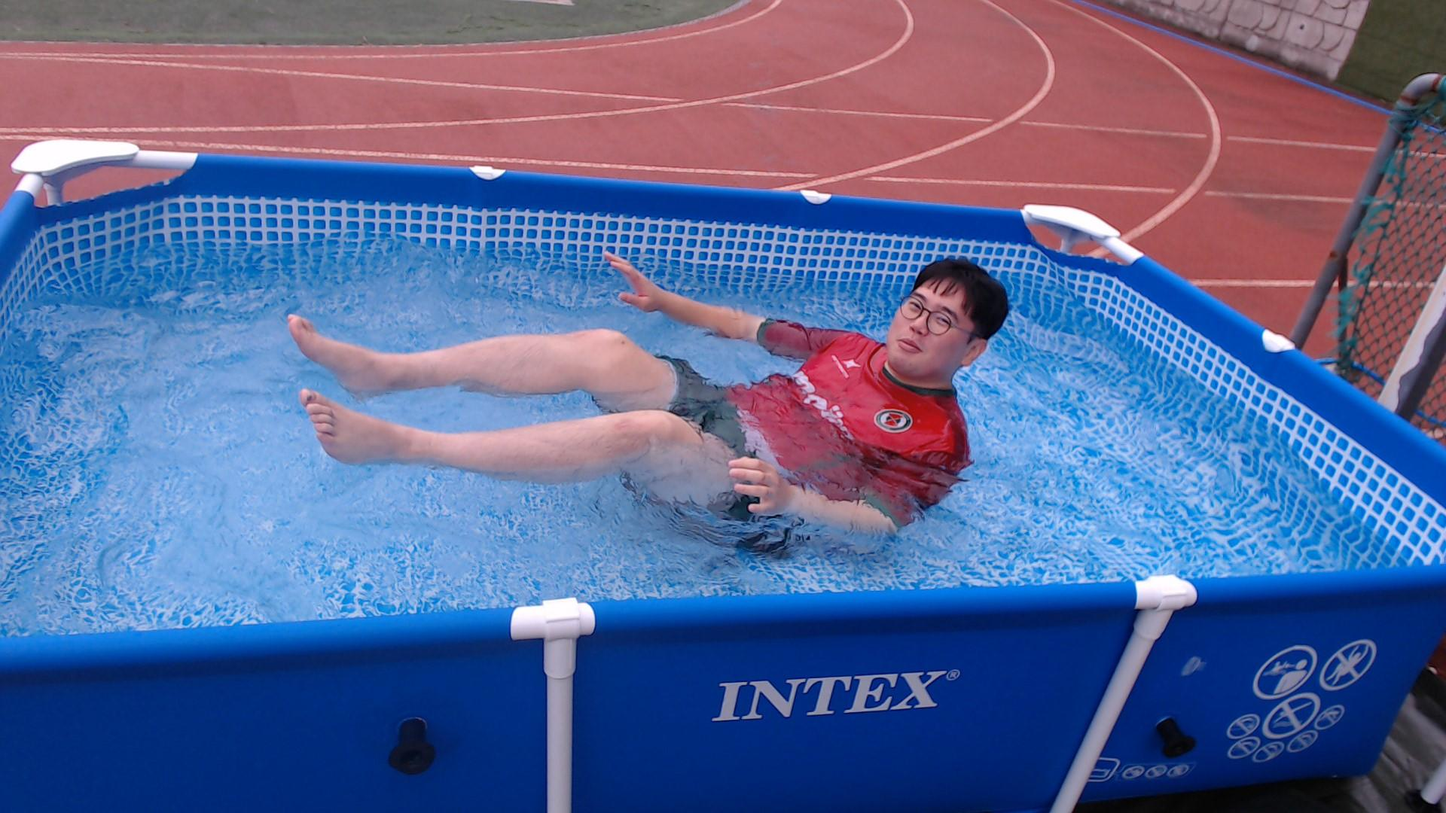Swimming: (250, 160, 1070, 572)
